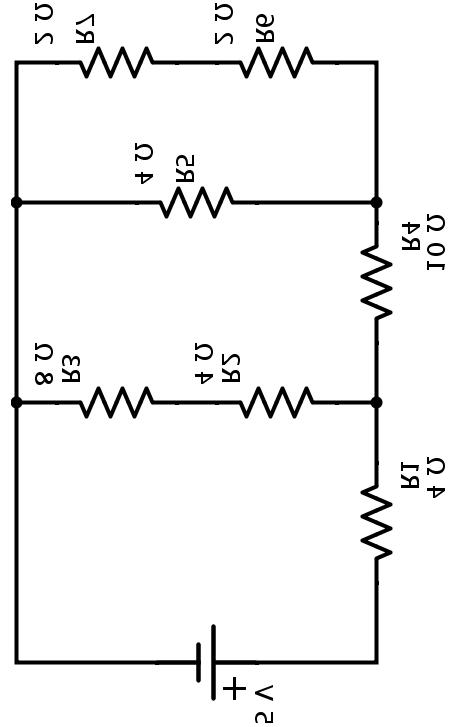Battery: (155, 617, 241, 712)
